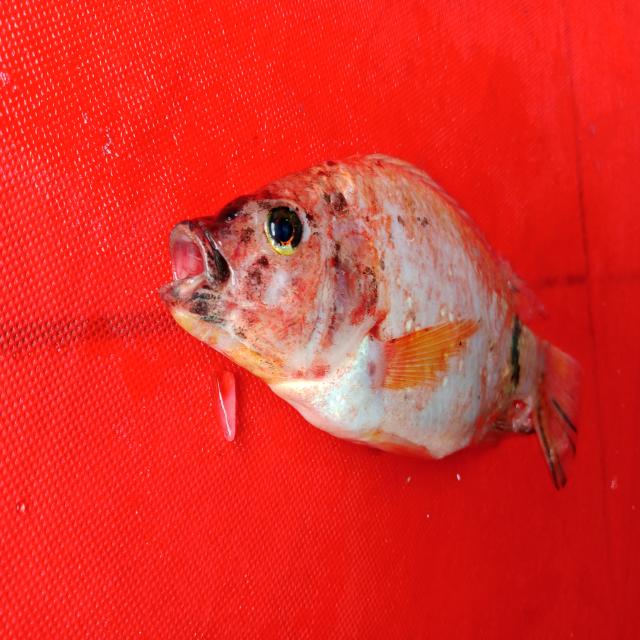ikan: (149, 103, 596, 499)
